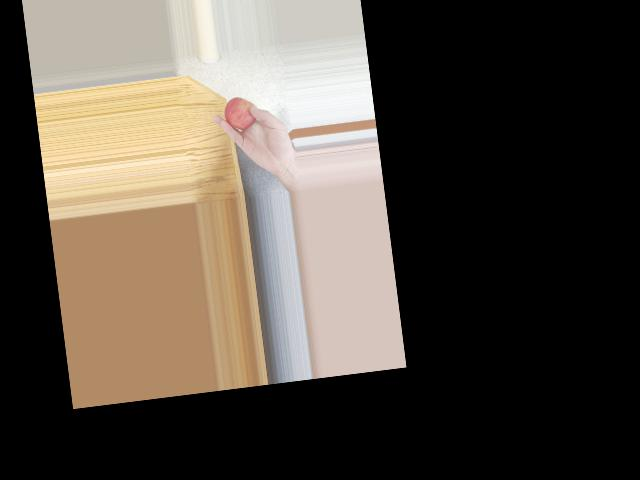apple: (223, 94, 261, 134)
